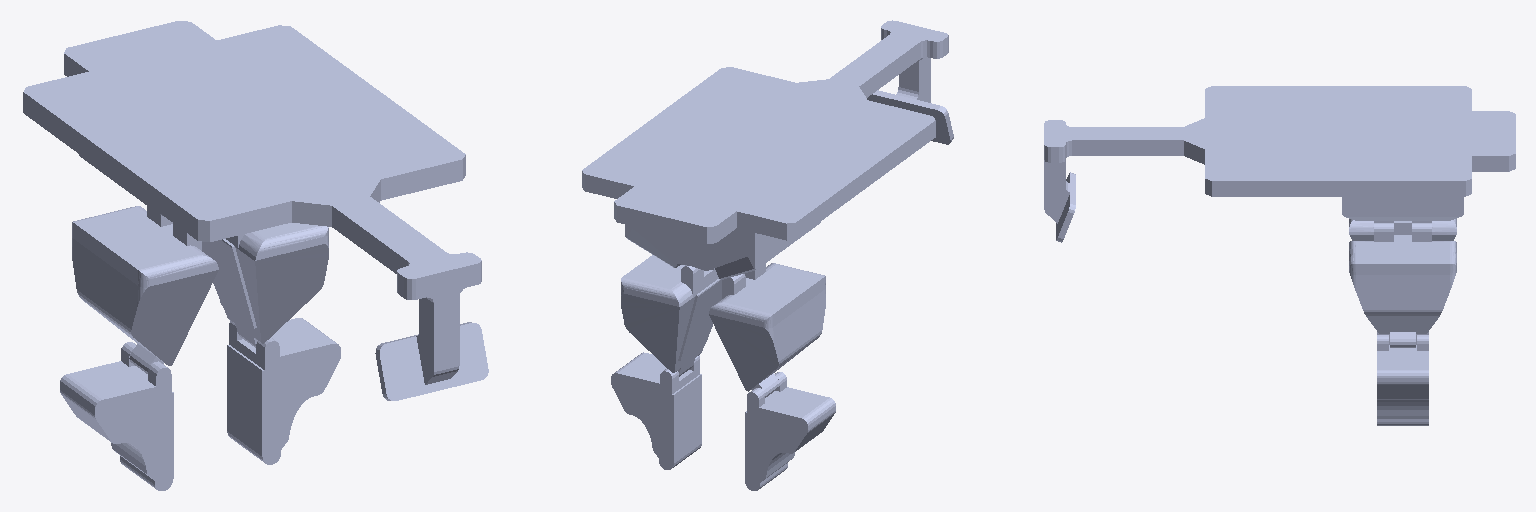
URDF robot description (Assem_DexCo):
<?xml version="1.0" encoding="utf-8"?>
<!-- This URDF was automatically created by SolidWorks to URDF Exporter! Originally created by [author] ([email redacted]) 
     Commit Version: 1.6.0-4-g7f85cfe  Build Version: 1.6.7995.38578
     For more information, please see http://wiki.ros.org/sw_urdf_exporter -->
<robot
  name="Assem_DexCo">
  <link
    name="base_link">
    <inertial>
      <origin
        xyz="-1.53918582228262E-05 0.0118272851393819 -0.0231760816036541"
        rpy="0 0 0" />
      <mass
        value="0.221866558618437" />
      <inertia
        ixx="0.000512212644657831"
        ixy="8.31082213107484E-09"
        ixz="8.65835010402253E-08"
        iyy="0.000614703822272175"
        iyz="-1.66568628313348E-05"
        izz="0.000151345089061516" />
    </inertial>
    <visual>
      <origin
        xyz="0 0 0"
        rpy="0 0 0" />
      <geometry>
        <mesh
          filename="./base_link.obj" />
      </geometry>
      <material
        name="">
        <color
          rgba="0.792156862745098 0.819607843137255 0.933333333333333 1" />
      </material>
    </visual>
    <collision>
      <origin
        xyz="0 0 0"
        rpy="0 0 0" />
      <geometry>
        <mesh
          filename="./base_link.obj" />
      </geometry>
    </collision>
  </link>
  <link name="L1" />
  <link name="base_post" />
  <joint name="base_post_joint"
    type="fixed">
    <origin
      xyz="0 0 0"
      rpy="-1.5707963267948966 0 0" />
    <parent
      link="base_link" />
    <child
      link="base_post" />
    <axis
      xyz="0 0 0" />
  </joint>
  <joint name="L1_joint"
    type="revolute">
    <origin
      xyz="0.0065144 0.03566 0"
      rpy="-1.5708 0 1.0472" />
    <parent
      link="base_post" />
    <child
      link="L1" />
    <axis
      xyz="0 0 -1" />
    <limit
      lower="0"
      upper="0"
      effort="0"
      velocity="0" />
  </joint>
  <link name="L2">
    <inertial>
      <origin
        xyz="0.012467688084469 0.0208419442255298 5.57840696274736E-08"
        rpy="0 0 0" />
      <mass
        value="0.042256590011124" />
      <inertia
        ixx="1.14874790777965E-05"
        ixy="-2.34843524465914E-07"
        ixz="2.34457172248952E-11"
        iyy="8.92428007869733E-06"
        iyz="3.99542486719638E-11"
        izz="7.96648559915127E-06" />
    </inertial>
    <visual>
      <origin
        xyz="0 0 0"
        rpy="0 0 0" />
      <geometry>
        <mesh
          filename="./L2.obj" />
      </geometry>
      <material
        name="">
        <color
          rgba="0.792156862745098 0.819607843137255 0.933333333333333 1" />
      </material>
    </visual>
    <collision>
      <origin
        xyz="0 0 0"
        rpy="0 0 0" />
      <geometry>
        <mesh
          filename="./L2.obj" />
      </geometry>
    </collision>
  </link>
  <joint name="L2_pre_joint"
    type="revolute">
    <origin
      xyz="0.0095 0 0.00135"
      rpy="1.5708 1.0472 0" />
    <parent
      link="L1" />
    <child
      link="L2_pre" />
    <axis
      xyz="0 0 -1" />
    <limit
      lower="0"
      upper="0"
      effort="0"
      velocity="0" />
  </joint>
  <link name="L2_pre" />
  <joint name="L2_joint"
    type="fixed">
    <origin
      xyz="0 0 0"
      rpy="1.5707963267948966 0 0" />
    <parent
      link="L2_pre" />
    <child
      link="L2" />
    <axis
      xyz="0 0 0" />
  </joint>
  <link name="L3_pre" />
  <joint name="L3_joint"
    type="fixed">
    <origin
      xyz="0 0 0"
      rpy="1.5707963267948966 0 0" />
    <parent
      link="L3_pre" />
    <child
      link="L3" />
    <axis
      xyz="0 0 0" />
  </joint>
  <link name="L3">
    <inertial>
      <origin
        xyz="0.00769053015343883 0.017577472535237 -2.34146432451232E-08"
        rpy="0 0 0" />
      <mass
        value="0.0181675166912021" />
      <inertia
        ixx="2.81875241235493E-06"
        ixy="6.56485306666963E-07"
        ixz="-3.95988475299648E-12"
        iyy="2.09356586175124E-06"
        iyz="4.07921216752629E-12"
        izz="3.13737225304796E-06" />
    </inertial>
    <visual>
      <origin
        xyz="0 0 0"
        rpy="0 0 0" />
      <geometry>
        <mesh
          filename="./L3.obj" />
      </geometry>
      <material
        name="">
        <color
          rgba="0.792156862745098 0.819607843137255 0.933333333333333 1" />
      </material>
    </visual>
    <collision>
      <origin
        xyz="0 0 0"
        rpy="0 0 0" />
      <geometry>
        <mesh
          filename="./L3.obj" />
      </geometry>
    </collision>
  </link>
  <joint name="L3_pre_joint"
    type="revolute">
    <origin
      xyz="0.011111 0.052324 0"
      rpy="0 0 0" />
    <parent
      link="L2_pre" />
    <child
      link="L3_pre" />
    <axis
      xyz="0 0 -1" />
    <limit
      lower="0"
      upper="0"
      effort="0"
      velocity="0" />
  </joint>
  <link name="R1" />
  <joint name="R1_joint" type="revolute">
    <origin
      xyz="-0.0065585 0.03566 0"
      rpy="-1.5708 0 -1.0472" />
    <parent
      link="base_post" />
    <child
      link="R1" />
    <axis
      xyz="0 0 -1" />
    <limit
      lower="0"
      upper="0"
      effort="0"
      velocity="0" />
  </joint>
  <link name="R2">
    <inertial>
      <origin
        xyz="-0.0124676880844688 -0.0208419442255299 5.57840696101264E-08"
        rpy="0 0 0" />
      <mass
        value="0.042256590011124" />
      <inertia
        ixx="1.14874790777965E-05"
        ixy="-2.34843524465917E-07"
        ixz="-2.34457172299742E-11"
        iyy="8.92428007869732E-06"
        iyz="-3.99542486764245E-11"
        izz="7.96648559915127E-06" />
    </inertial>
    <visual>
      <origin
        xyz="0 0 0"
        rpy="0 0 0" />
      <geometry>
        <mesh
          filename="./R2.obj" />
      </geometry>
      <material
        name="">
        <color
          rgba="0.792156862745098 0.819607843137255 0.933333333333333 1" />
      </material>
    </visual>
    <collision>
      <origin
        xyz="0 0 0"
        rpy="0 0 0" />
      <geometry>
        <mesh
          filename="./R2.obj" />
      </geometry>
    </collision>
  </link>
  <link name="R2_pre" />
  <joint name="R2_joint" type="fixed">
    <origin
      xyz="0 0 0"
      rpy="1.5707963267948966 0 0" />
    <parent
      link="R2_pre" />
    <child
      link="R2" />
    <axis
      xyz="0 0 0" />
  </joint>
  <joint name="R2_pre_joint" type="revolute">
    <origin
      xyz="-0.0095 0 0.00135"
      rpy="-1.5708 -1.0472 0" />
    <parent
      link="R1" />
    <child
      link="R2_pre" />
    <axis
      xyz="0 0 -1" />
    <limit
      lower="0"
      upper="0"
      effort="0"
      velocity="0" />
  </joint>
  <link name="R3">
    <inertial>
      <origin
        xyz="-0.00769053015343813 -0.0175774725352376 -2.34146433041038E-08"
        rpy="0 0 0" />
      <mass
        value="0.0181675166912021" />
      <inertia
        ixx="2.81875241235493E-06"
        ixy="6.56485306666963E-07"
        ixz="3.9598847532158E-12"
        iyy="2.09356586175123E-06"
        iyz="-4.07921216811937E-12"
        izz="3.13737225304796E-06" />
    </inertial>
    <visual>
      <origin
        xyz="0 0 0"
        rpy="0 0 0" />
      <geometry>
        <mesh
          filename="./R3.obj" />
      </geometry>
      <material
        name="">
        <color
          rgba="0.792156862745098 0.819607843137255 0.933333333333333 1" />
      </material>
    </visual>
    <collision>
      <origin
        xyz="0 0 0"
        rpy="0 0 0" />
      <geometry>
        <mesh
          filename="./R3.obj" />
      </geometry>
    </collision>
  </link>
  <link name="R3_pre" />
  <joint name="R3_joint" type="fixed">
    <origin
      xyz="0 0 0"
      rpy="1.5707963267948966 0 0" />
    <parent
      link="R3_pre" />
    <child
      link="R3" />
    <axis
      xyz="0 0 0" />
  </joint>
  <joint name="R3_pre_joint" type="revolute">
    <origin
      xyz="-0.011111 -0.052324 0"
      rpy="0 0 0" />
    <parent
      link="R2_pre" />
    <child
      link="R3_pre" />
    <axis
      xyz="0 0 -1" />
    <limit
      lower="0"
      upper="0"
      effort="0"
      velocity="0" />
  </joint>
  <link name="camera">
    <inertial>
      <origin
        xyz="1.77526878436876E-05 0.0506083642381561 0.13149834572087"
        rpy="0 0 0" />
      <mass
        value="0.343639320062897" />
      <inertia
        ixx="0.00100949821851774"
        ixy="7.53947434534288E-09"
        ixz="-1.0775794600816E-07"
        iyy="0.000833680928073293"
        iyz="8.23230039372319E-05"
        izz="0.00059242185142593" />
    </inertial>
    <visual>
      <origin
        xyz="0 0 0"
        rpy="0 0 0" />
      <geometry>
        <mesh
          filename="./L1.STL" />
      </geometry>
      <material
        name="">
        <color
          rgba="1 1 1 1" />
      </material>
    </visual>
    <collision>
      <origin
        xyz="0 0 0"
        rpy="0 0 0" />
      <geometry>
        <mesh
          filename="./L1.STL" />
      </geometry>
    </collision>
  </link>
  <joint name="camera" type="fixed">
    <origin
      xyz="0 0.038513 -0.15584"
      rpy="0.34907 0 3.1416" />
    <parent
      link="base_post" />
    <child
      link="camera" />
    <axis
      xyz="0 0 0" />
  </joint>
</robot>

--- Facts derived from the render (not from the file) ---
3 views of the same robot in one strip: view 1: azimuth 30°, elevation 25°; view 2: azimuth 150°, elevation 25°; view 3: azimuth 270°, elevation 25° (orthographic).
Robot: Assem_DexCo — 13 links, 12 joints (6 revolute, 6 fixed); root link base_link; default pose: every joint at zero.
Links seen in each view (by area): view 1: base_link, R2, L3, L2, R3; view 2: base_link, R2, L2, L3, R3; view 3: base_link, L2, L3, R2.
Boxes of the visible links, <box> form: base_link: <box>23,21,488,400</box>; R2: <box>72,206,218,373</box>; L3: <box>227,318,340,464</box>; L2: <box>202,223,328,347</box>; R3: <box>60,342,173,490</box>; base_link: <box>582,20,953,279</box>; R2: <box>709,263,825,397</box>; L2: <box>621,255,721,376</box>; L3: <box>611,352,701,469</box>; R3: <box>745,372,835,490</box>; base_link: <box>1044,86,1515,242</box>; L2: <box>1349,223,1456,347</box>; L3: <box>1377,335,1428,425</box>; R2: <box>1349,219,1456,240</box>.
Size in the robot's own frame: 0.105 by 0.2198 by 0.1402 metres.
Meshes: 6 distinct files referenced, 5 mesh visuals loaded (5 OBJ); not drawn: 1 (reference not matched to a file when rendering).
